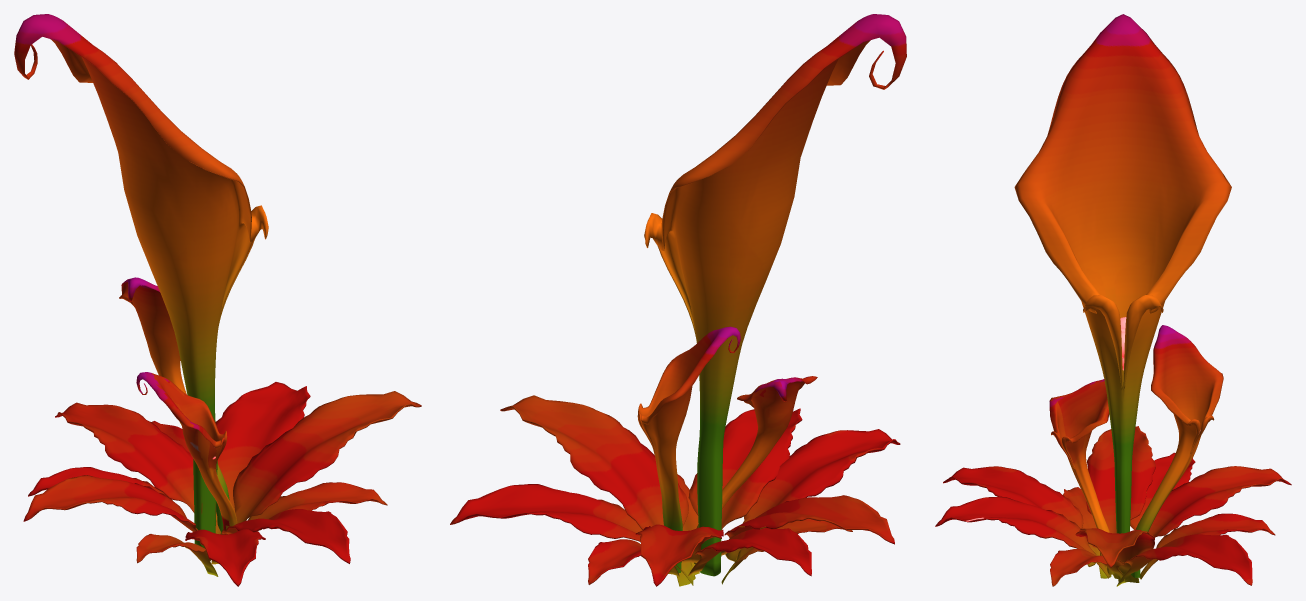
Rendered from Fleur feu A F.fbx.
The picture shows the model from 3 angles, left to right: view 1: azimuth 30°, elevation 25°; view 2: azimuth 150°, elevation 25°; view 3: azimuth 270°, elevation 25°; orthographic projection. The views are drawn at different scales.
Parts seen in each view (by area): view 1: Feuille_Opti; view 2: Feuille_Opti; view 3: Feuille_Opti.
Part boxes in pixels (x1,y1,x2,y2): Feuille_Opti: [14, 14, 421, 586]; Feuille_Opti: [450, 14, 906, 586]; Feuille_Opti: [935, 14, 1291, 586].
Bounding box in the file's own units: 151 × 214 × 140.
1 material, 1 textured.
